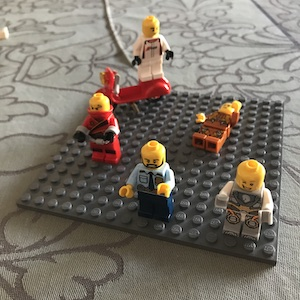Lego: (216, 160, 275, 238), (124, 139, 176, 218), (77, 92, 121, 164), (189, 99, 243, 152), (130, 16, 172, 81)
